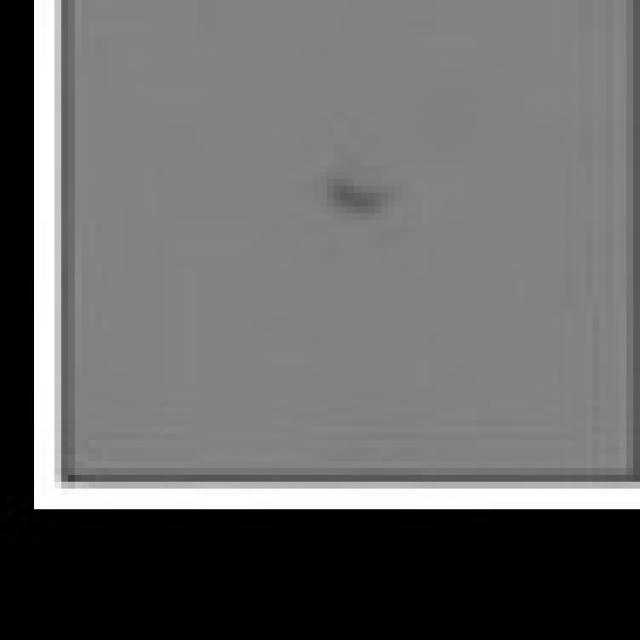Defect3: (302, 131, 441, 270)
